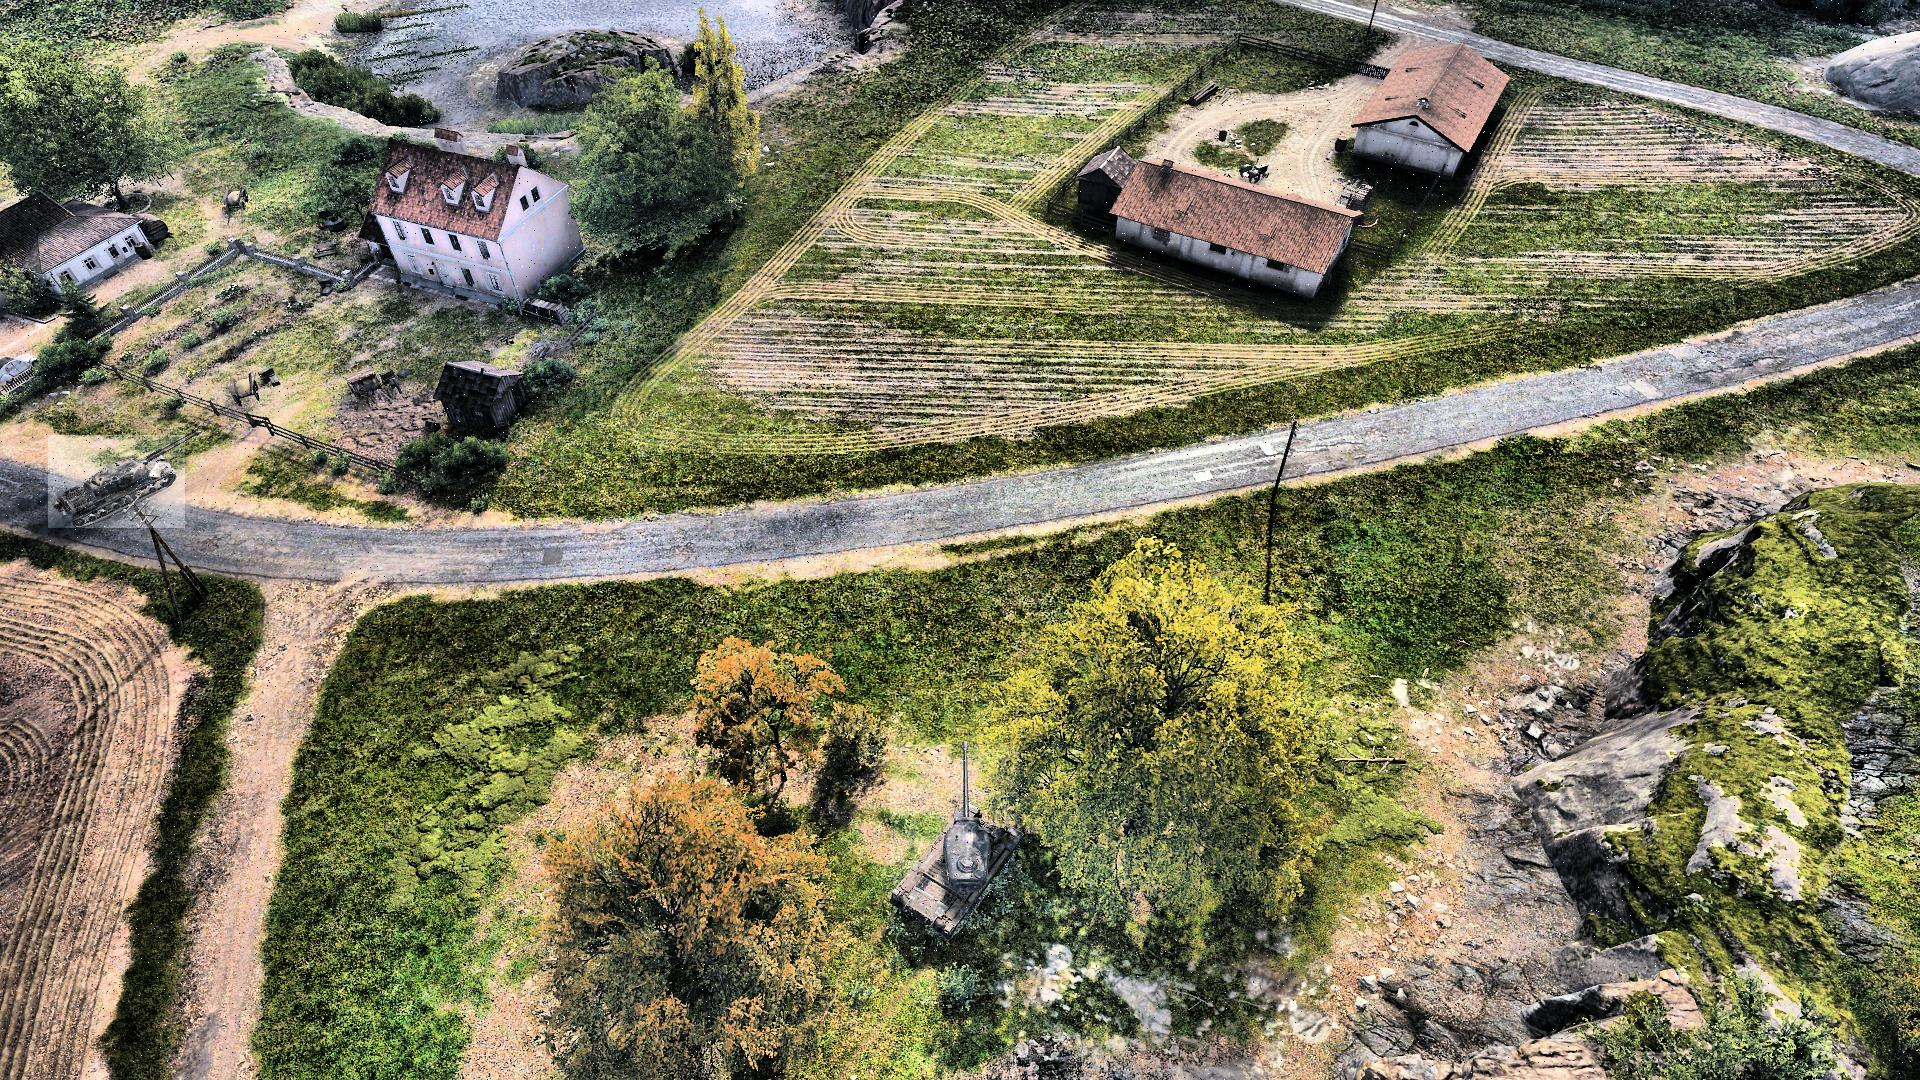military-vehicle: (890, 745, 1021, 935), (49, 435, 185, 529)
